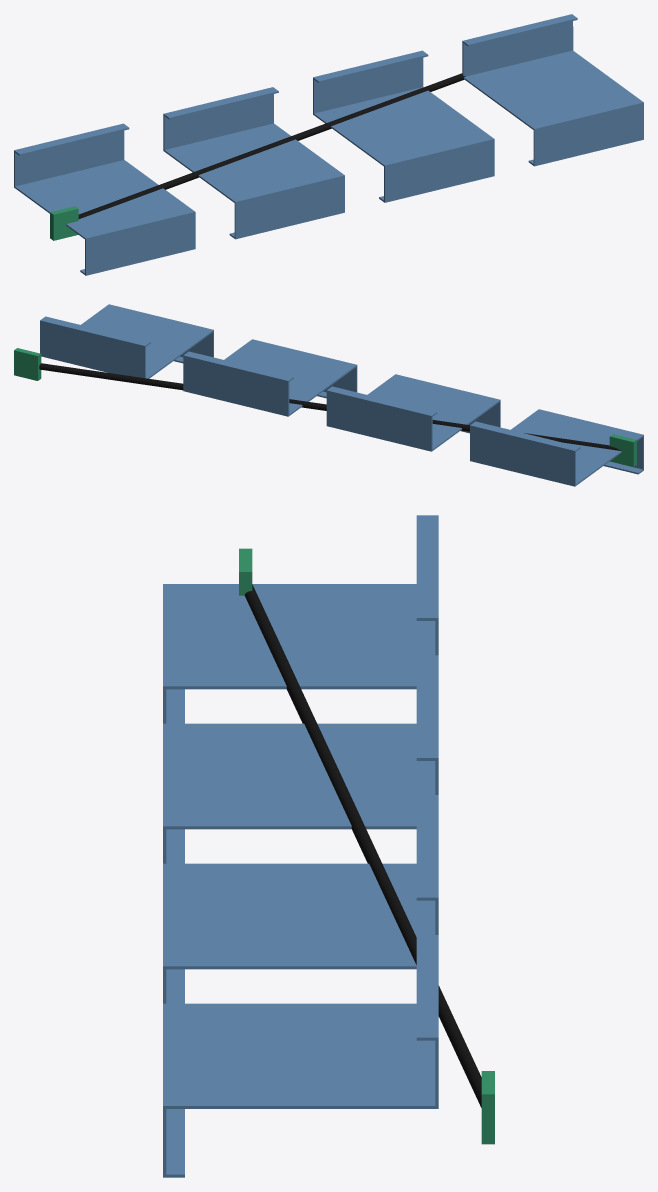
Rendered from sag_rod_detail_typ.obj.
3 renders of one model, top to bottom at view 1: azimuth 30°, elevation 25°; view 2: azimuth 150°, elevation 25°; view 3: azimuth 270°, elevation 25°, orthographic. The views are drawn at different scales.
Visible parts, largest first — view 1: sag_rod_Z250_purlin_4_web_Z250, sag_rod_Z250_purlin_3_web_Z250, sag_rod_Z250_purlin_2_web_Z250, sag_rod_Z250_purlin_1_web_Z250, sag_rod_Z250_purlin_2_top_flange_Z250, sag_rod_Z250_purlin_1_top_flange_Z250, sag_rod_Z250_purlin_3_top_flange_Z250, sag_rod_Z250_purlin_4_top_flange_Z250, sag_rod_Z250_purlin_2_bottom_flange_Z250, sag_rod_Z250_purlin_1_bottom_flange_Z250, sag_rod_Z250_purlin_3_bottom_flange_Z250, sag_rod_Z250_purlin_4_bottom_flange_Z250 (+6 smaller); view 2: sag_rod_Z250_purlin_4_web_Z250, sag_rod_Z250_purlin_2_web_Z250, sag_rod_Z250_purlin_3_web_Z250, sag_rod_Z250_purlin_2_bottom_flange_Z250, sag_rod_Z250_purlin_1_bottom_flange_Z250, sag_rod_Z250_purlin_3_bottom_flange_Z250, sag_rod_Z250_purlin_4_bottom_flange_Z250, sag_rod_Z250_purlin_1_web_Z250, D12_sag_rod_typ, sag_rod_end_plate_560, sag_rod_Z250_purlin_3_bottom_lip_Z250, sag_rod_end_plate_-560 (+6 smaller); view 3: sag_rod_Z250_purlin_4_web_Z250, sag_rod_Z250_purlin_3_web_Z250, sag_rod_Z250_purlin_2_web_Z250, sag_rod_Z250_purlin_1_web_Z250, D12_sag_rod_typ, sag_rod_Z250_purlin_1_bottom_lip_Z250, sag_rod_Z250_purlin_2_bottom_lip_Z250, sag_rod_Z250_purlin_4_bottom_lip_Z250, sag_rod_Z250_purlin_3_bottom_lip_Z250, sag_rod_Z250_purlin_4_top_lip_Z250, sag_rod_end_plate_560.
Boxes of the visible parts, x1,y1,x2,y2 form: sag_rod_Z250_purlin_4_web_Z250: (463, 50, 643, 130); sag_rod_Z250_purlin_3_web_Z250: (313, 87, 494, 166); sag_rod_Z250_purlin_2_web_Z250: (163, 123, 344, 203); sag_rod_Z250_purlin_1_web_Z250: (14, 160, 195, 239); sag_rod_Z250_purlin_2_top_flange_Z250: (234, 176, 344, 239); sag_rod_Z250_purlin_1_top_flange_Z250: (85, 213, 195, 275); sag_rod_Z250_purlin_3_top_flange_Z250: (384, 140, 494, 202); sag_rod_Z250_purlin_4_top_flange_Z250: (533, 104, 643, 165); sag_rod_Z250_purlin_2_bottom_flange_Z250: (163, 87, 273, 150); sag_rod_Z250_purlin_1_bottom_flange_Z250: (14, 123, 124, 186); sag_rod_Z250_purlin_3_bottom_flange_Z250: (313, 50, 423, 114); sag_rod_Z250_purlin_4_bottom_flange_Z250: (462, 14, 572, 76); sag_rod_Z250_purlin_4_web_Z250: (41, 304, 213, 378); sag_rod_Z250_purlin_2_web_Z250: (326, 374, 500, 451); sag_rod_Z250_purlin_3_web_Z250: (183, 339, 357, 416); sag_rod_Z250_purlin_2_bottom_flange_Z250: (326, 390, 432, 450); sag_rod_Z250_purlin_1_bottom_flange_Z250: (470, 425, 575, 485); sag_rod_Z250_purlin_3_bottom_flange_Z250: (183, 355, 289, 415); sag_rod_Z250_purlin_4_bottom_flange_Z250: (40, 320, 145, 378); sag_rod_Z250_purlin_1_web_Z250: (470, 409, 643, 486); D12_sag_rod_typ: (39, 363, 620, 450); sag_rod_end_plate_560: (14, 348, 41, 380); sag_rod_Z250_purlin_3_bottom_lip_Z250: (183, 351, 293, 382); sag_rod_end_plate_-560: (609, 434, 636, 467); sag_rod_Z250_purlin_4_web_Z250: (163, 1003, 438, 1108); sag_rod_Z250_purlin_3_web_Z250: (163, 863, 435, 969); sag_rod_Z250_purlin_2_web_Z250: (163, 723, 435, 829); sag_rod_Z250_purlin_1_web_Z250: (163, 584, 435, 689); D12_sag_rod_typ: (244, 584, 481, 1107); sag_rod_Z250_purlin_1_bottom_lip_Z250: (416, 515, 438, 620); sag_rod_Z250_purlin_2_bottom_lip_Z250: (416, 655, 438, 760); sag_rod_Z250_purlin_4_bottom_lip_Z250: (416, 935, 438, 1040); sag_rod_Z250_purlin_3_bottom_lip_Z250: (416, 795, 438, 900); sag_rod_Z250_purlin_4_top_lip_Z250: (163, 1109, 184, 1177); sag_rod_end_plate_560: (481, 1071, 494, 1144).
Size of the model in its own units: 1170 by 140 by 301.
